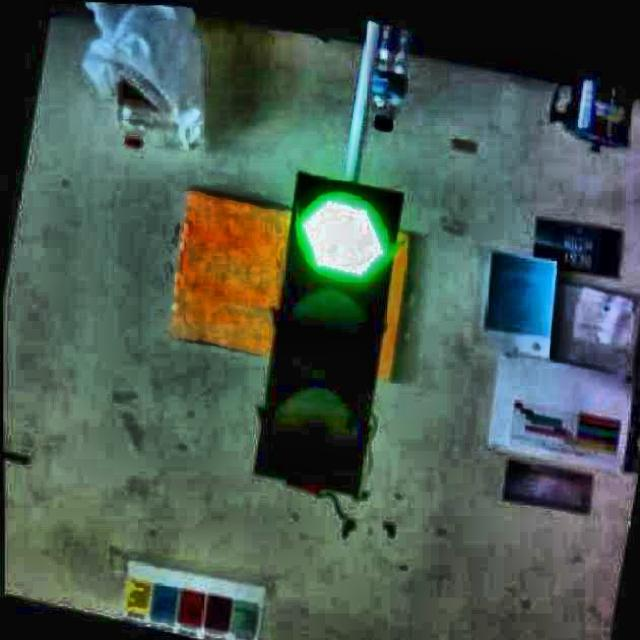green: (259, 169, 406, 503)
